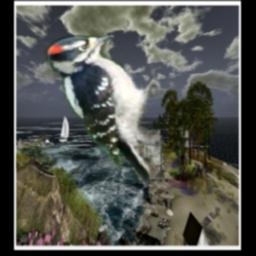Woodpecker: (43, 29, 160, 187)
